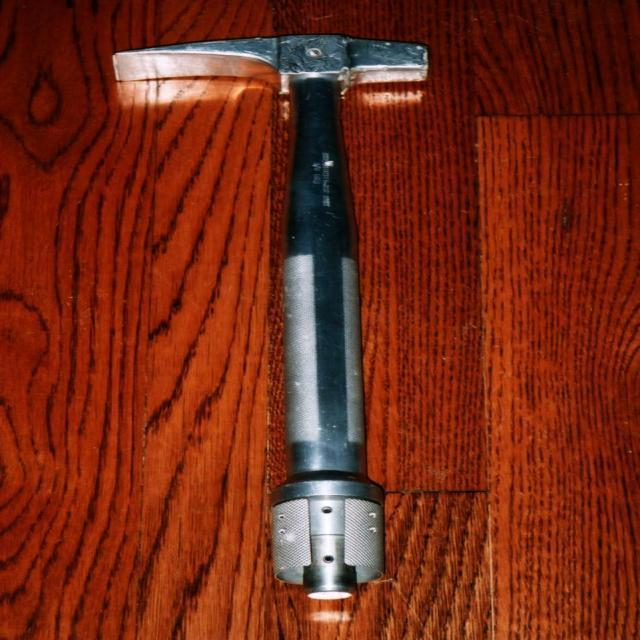hammer: (104, 29, 438, 608)
